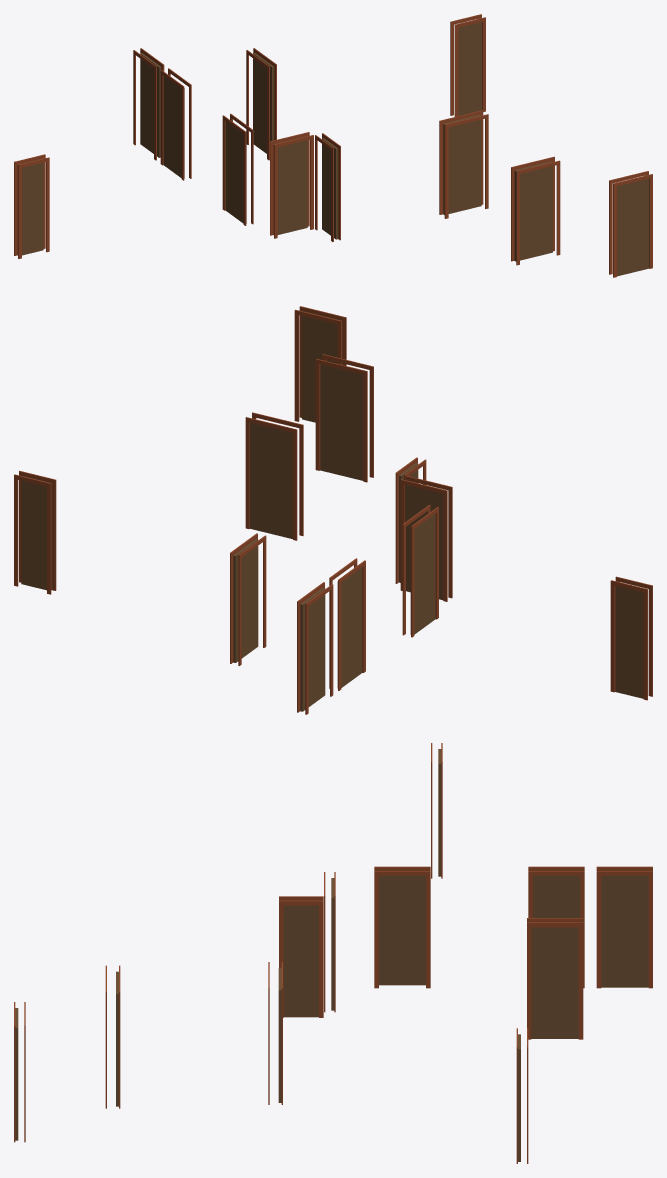
Rendered from PROJETO BIM 12 ANDARES_D_cimo_segundo_IfcDoor.dae.
3 views of the same model, one above another, from view 1: azimuth 30°, elevation 25°; view 2: azimuth 150°, elevation 25°; view 3: azimuth 270°, elevation 25° (orthographic). The views are drawn at different scales.
Visible parts, largest first — view 1: 1C3e13NTDBWfr6F8kTVnSU, 1C3e13NTDBWfr6F8kTVnSM, 1C3e13NTDBWfr6F8kTVnSN, 1C3e13NTDBWfr6F8kTVnSO, 1C3e13NTDBWfr6F8kTVnSV, 1C3e13NTDBWfr6F8kTVnST, 1C3e13NTDBWfr6F8kTVnSP, 1C3e13NTDBWfr6F8kTVnSQ, 1C3e13NTDBWfr6F8kTVnSR, 1C3e13NTDBWfr6F8kTVnSS, 1C3e13NTDBWfr6F8kTVnVa; view 2: 1C3e13NTDBWfr6F8kTVnSM, 1C3e13NTDBWfr6F8kTVnSU, 1C3e13NTDBWfr6F8kTVnST, 1C3e13NTDBWfr6F8kTVnSV, 1C3e13NTDBWfr6F8kTVnSN, 1C3e13NTDBWfr6F8kTVnSP, 1C3e13NTDBWfr6F8kTVnSS, 1C3e13NTDBWfr6F8kTVnSR, 1C3e13NTDBWfr6F8kTVnSO, 1C3e13NTDBWfr6F8kTVnSQ, 1C3e13NTDBWfr6F8kTVnVa; view 3: 1C3e13NTDBWfr6F8kTVnSS, 1C3e13NTDBWfr6F8kTVnSR, 1C3e13NTDBWfr6F8kTVnSP, 1C3e13NTDBWfr6F8kTVnVa, 1C3e13NTDBWfr6F8kTVnSQ, 1C3e13NTDBWfr6F8kTVnSM, 1C3e13NTDBWfr6F8kTVnSU, 1C3e13NTDBWfr6F8kTVnSN, 1C3e13NTDBWfr6F8kTVnSO, 1C3e13NTDBWfr6F8kTVnSV, 1C3e13NTDBWfr6F8kTVnST.
Boxes of the visible parts, box(x1,y1,x2,y2) form: 1C3e13NTDBWfr6F8kTVnSU: box(439, 110, 488, 218); 1C3e13NTDBWfr6F8kTVnSM: box(511, 156, 560, 265); 1C3e13NTDBWfr6F8kTVnSN: box(609, 171, 652, 277); 1C3e13NTDBWfr6F8kTVnSO: box(270, 132, 313, 238); 1C3e13NTDBWfr6F8kTVnSV: box(450, 14, 485, 116); 1C3e13NTDBWfr6F8kTVnST: box(14, 154, 49, 258); 1C3e13NTDBWfr6F8kTVnSP: box(222, 113, 253, 225); 1C3e13NTDBWfr6F8kTVnSQ: box(160, 68, 191, 180); 1C3e13NTDBWfr6F8kTVnSR: box(246, 48, 276, 160); 1C3e13NTDBWfr6F8kTVnSS: box(133, 48, 164, 160); 1C3e13NTDBWfr6F8kTVnVa: box(315, 133, 340, 241); 1C3e13NTDBWfr6F8kTVnSM: box(315, 354, 373, 482); 1C3e13NTDBWfr6F8kTVnSU: box(245, 412, 303, 540); 1C3e13NTDBWfr6F8kTVnST: box(610, 576, 652, 700); 1C3e13NTDBWfr6F8kTVnSV: box(14, 471, 56, 594); 1C3e13NTDBWfr6F8kTVnSN: box(294, 306, 346, 422); 1C3e13NTDBWfr6F8kTVnSP: box(402, 505, 438, 637); 1C3e13NTDBWfr6F8kTVnSS: box(297, 582, 333, 714); 1C3e13NTDBWfr6F8kTVnSR: box(230, 533, 266, 665); 1C3e13NTDBWfr6F8kTVnSO: box(400, 475, 452, 601); 1C3e13NTDBWfr6F8kTVnSQ: box(329, 558, 365, 690); 1C3e13NTDBWfr6F8kTVnVa: box(395, 457, 426, 583); 1C3e13NTDBWfr6F8kTVnSS: box(596, 866, 652, 988); 1C3e13NTDBWfr6F8kTVnSR: box(527, 918, 583, 1039); 1C3e13NTDBWfr6F8kTVnSP: box(374, 866, 430, 988); 1C3e13NTDBWfr6F8kTVnVa: box(279, 896, 323, 1017); 1C3e13NTDBWfr6F8kTVnSQ: box(528, 866, 584, 988); 1C3e13NTDBWfr6F8kTVnSM: box(105, 965, 120, 1108); 1C3e13NTDBWfr6F8kTVnSU: box(268, 962, 282, 1104); 1C3e13NTDBWfr6F8kTVnSN: box(14, 1002, 25, 1142); 1C3e13NTDBWfr6F8kTVnSO: box(324, 872, 335, 1012); 1C3e13NTDBWfr6F8kTVnSV: box(516, 1028, 528, 1163); 1C3e13NTDBWfr6F8kTVnST: box(431, 743, 442, 878).
Bounding box in the file's own units: 12.17 × 10.81 × 2.18.
